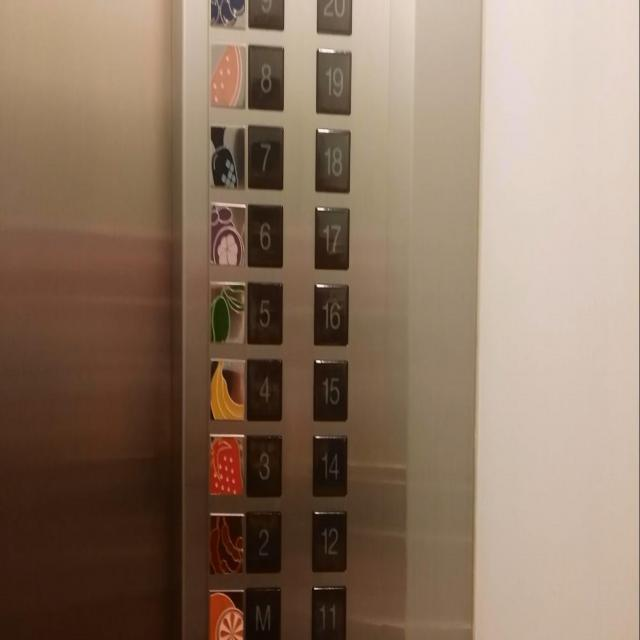11: (310, 582, 347, 639)
12: (310, 507, 348, 575)
14: (311, 431, 348, 499)
15: (312, 357, 350, 423)
16: (312, 281, 350, 348)
17: (312, 202, 350, 272)
18: (313, 124, 351, 194)
19: (313, 44, 353, 118)
2: (244, 507, 282, 575)
3: (244, 431, 283, 498)
4: (245, 355, 283, 423)
5: (245, 278, 283, 346)
6: (245, 201, 284, 268)
7: (244, 121, 286, 192)
8: (246, 40, 286, 111)
M: (242, 582, 282, 639)
